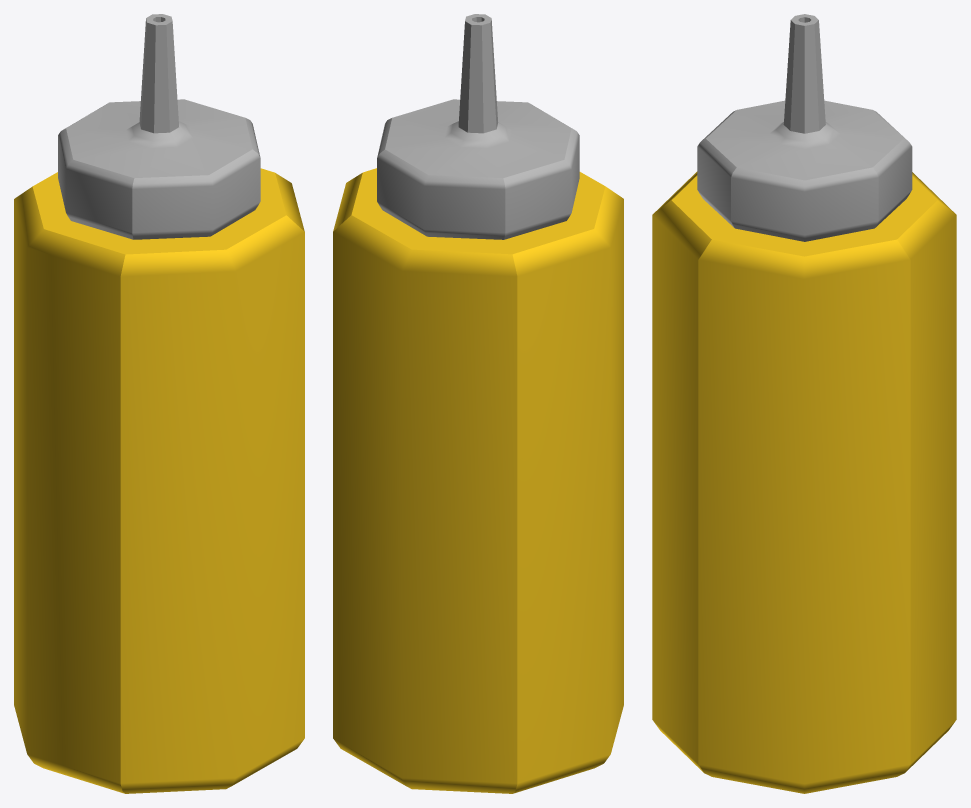
Rendered from Mustard Bottle.fbx.
3 renders of one model, left to right at view 1: azimuth 30°, elevation 25°; view 2: azimuth 150°, elevation 25°; view 3: azimuth 270°, elevation 25°, orthographic.
Visible parts, largest first — view 1: Bottle, BottleCap; view 2: Bottle, BottleCap; view 3: Bottle, BottleCap.
Boxes of the visible parts, x1=… form: Bottle: x1=14, y1=168, x2=304, y2=793; BottleCap: x1=58, y1=14, x2=260, y2=239; Bottle: x1=333, y1=168, x2=623, y2=793; BottleCap: x1=377, y1=14, x2=579, y2=239; Bottle: x1=652, y1=171, x2=956, y2=793; BottleCap: x1=697, y1=14, x2=912, y2=241.
Bounding box in the file's own units: 66.14 × 172 × 66.14.
Materials: 2 (1 with a texture image).
